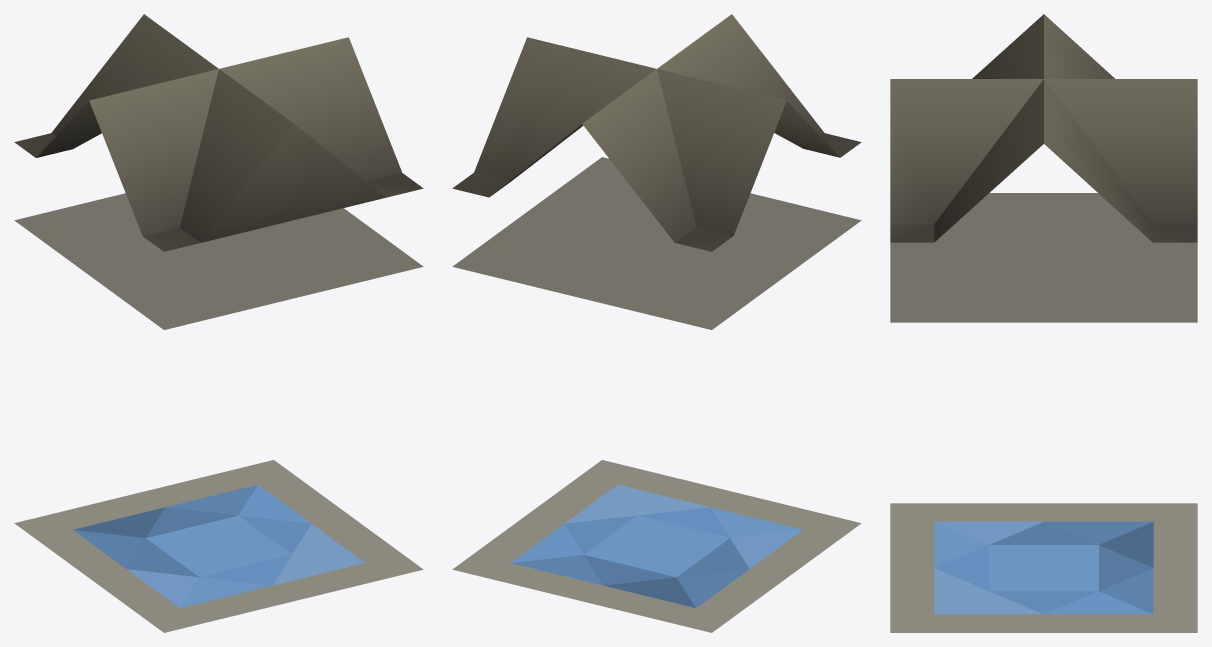
Rendered from Archway_C.fbx.
3 views of the same model, side by side, from view 1: azimuth 30°, elevation 25°; view 2: azimuth 150°, elevation 25°; view 3: azimuth 270°, elevation 25° (orthographic). The views are drawn at different scales.
Parts seen in each view (by area): view 1: Archway_C; view 2: Archway_C; view 3: Archway_C.
Part boxes in pixels (x1,y1,x2,y2): Archway_C: (14, 14, 423, 632); Archway_C: (452, 14, 861, 632); Archway_C: (890, 14, 1197, 632).
Bounding box in the file's own units: 350 × 615 × 350.
